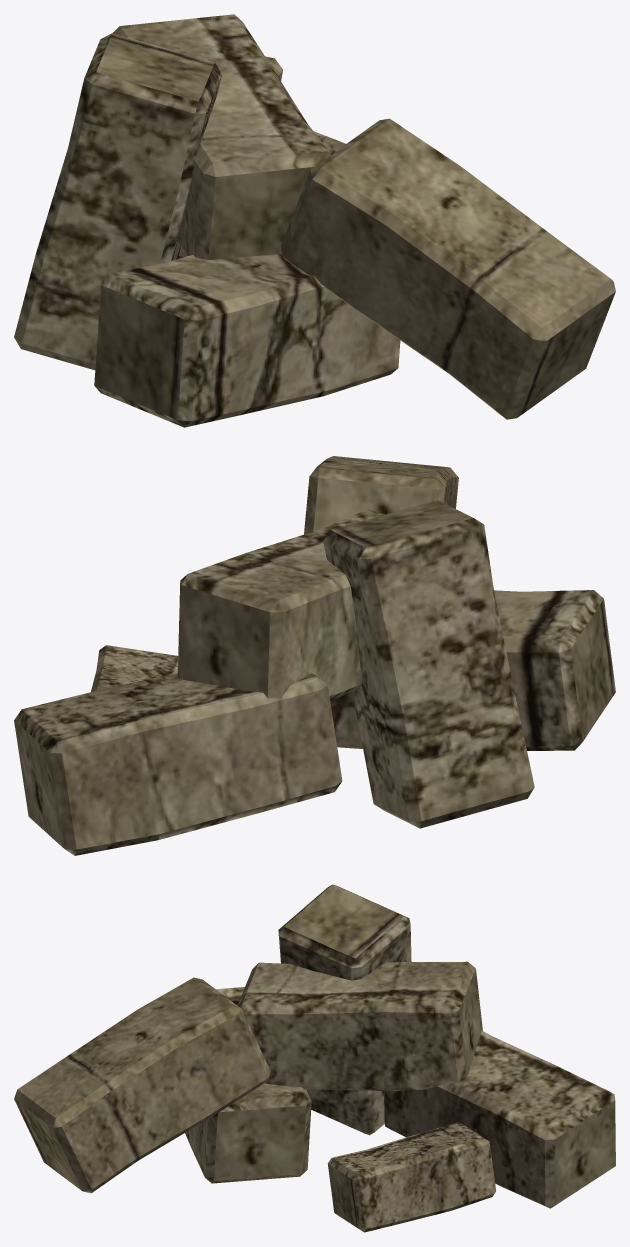
The model's file is tw2_5_dun_addons_01_13-transformed.glb.
The picture shows the model from 3 angles, top to bottom: view 1: azimuth 30°, elevation 25°; view 2: azimuth 150°, elevation 25°; view 3: azimuth 270°, elevation 25°; orthographic projection. The views are drawn at different scales.
Parts seen in each view (by area): view 1: 5_DUN_ADDONS_01_13; view 2: 5_DUN_ADDONS_01_13; view 3: 5_DUN_ADDONS_01_13.
Boxes of the visible parts, left/top/right/bottom form: 5_DUN_ADDONS_01_13: left=14, top=14, right=615, bottom=427; 5_DUN_ADDONS_01_13: left=14, top=456, right=615, bottom=855; 5_DUN_ADDONS_01_13: left=14, top=884, right=615, bottom=1232.
Size of the model in its own units: 2.38 by 1.55 by 3.73.
Materials: 1 (1 with a texture image).
